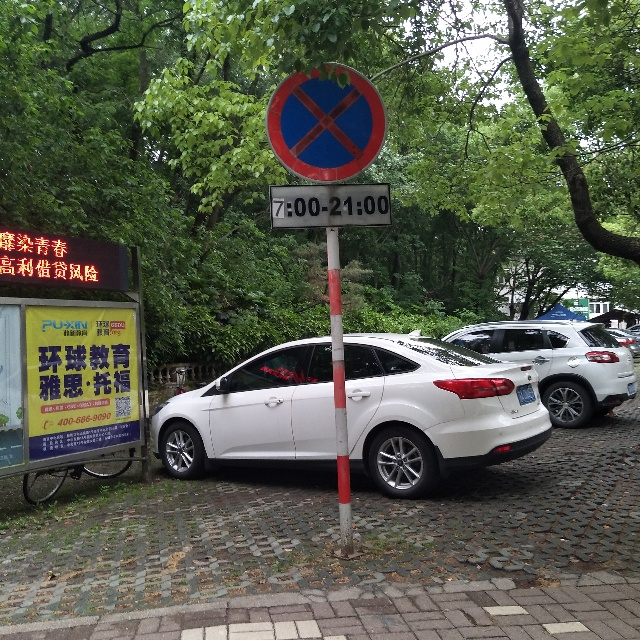stop: (276, 69, 376, 175)
